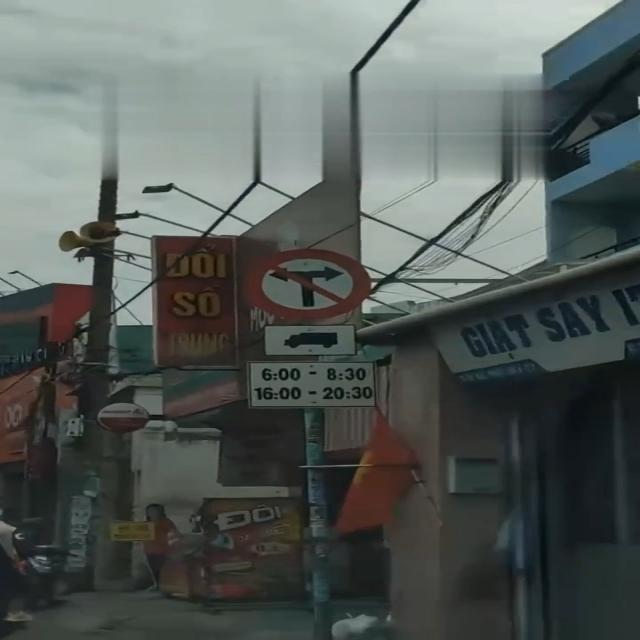137-cam-re-trai-va-re-phai: (242, 249, 368, 318)
